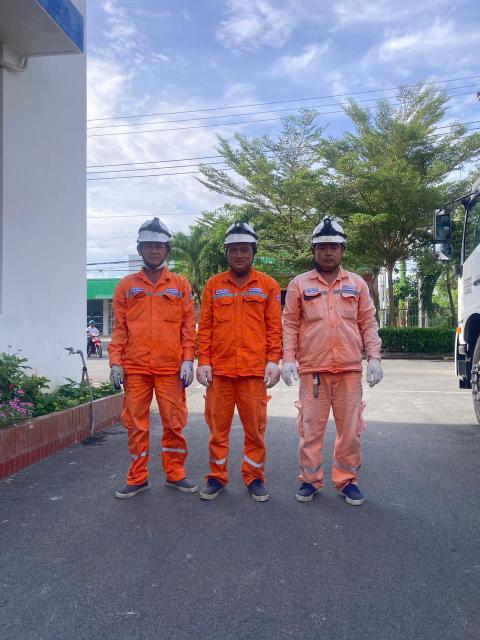gloves: (96, 357, 145, 400), (363, 349, 392, 402), (187, 358, 223, 399), (252, 355, 286, 395), (277, 350, 302, 395), (175, 357, 198, 391)
helmet: (215, 212, 286, 252), (300, 208, 359, 250), (125, 215, 194, 249)
shoes: (333, 468, 382, 517), (292, 471, 336, 512), (99, 468, 158, 498), (241, 472, 283, 513), (191, 470, 232, 506), (164, 470, 199, 500)
